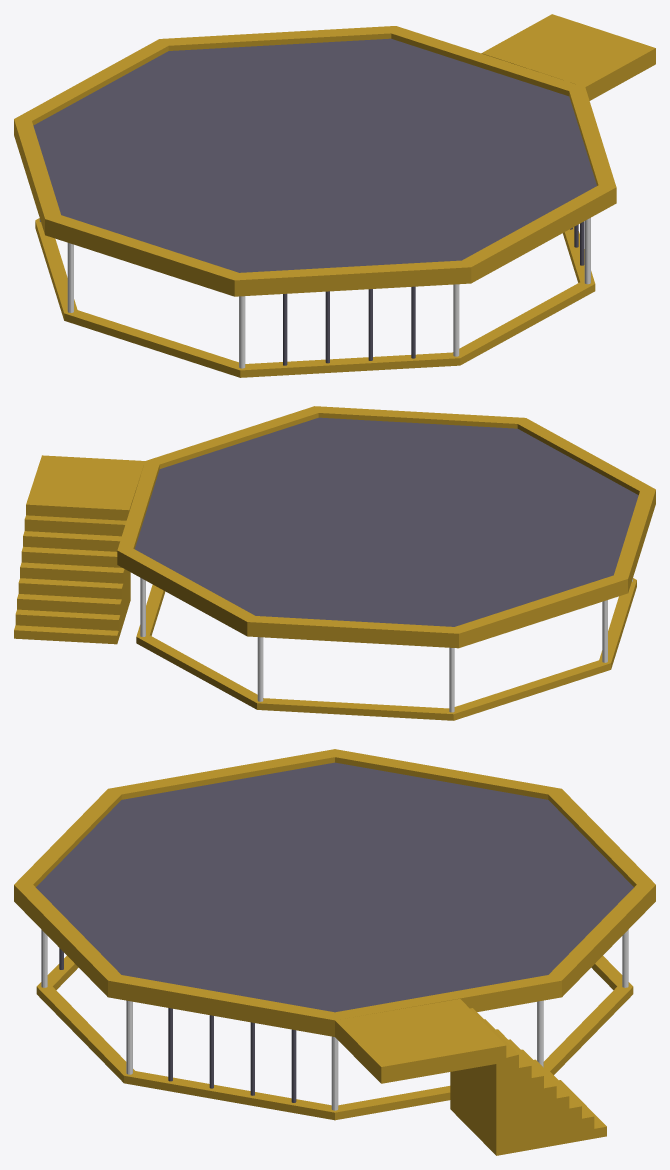
The model's file is platform.gltf.
The picture shows the model from 3 angles, top to bottom: view 1: azimuth 30°, elevation 25°; view 2: azimuth 150°, elevation 25°; view 3: azimuth 270°, elevation 25°; orthographic projection. The views are drawn at different scales.
Parts seen in each view (by area): view 1: Cylinder.001, Cylinder.002, Cylinder.004; view 2: Cylinder.001, Cylinder.002; view 3: Cylinder.001, Cylinder.002, Cylinder.003.
Part boxes in pixels (bbox=[...]): Cylinder.001: bbox=[14, 14, 655, 377]; Cylinder.002: bbox=[39, 218, 590, 368]; Cylinder.004: bbox=[283, 286, 415, 365]; Cylinder.001: bbox=[14, 406, 655, 720]; Cylinder.002: bbox=[140, 578, 632, 712]; Cylinder.001: bbox=[14, 749, 655, 1155]; Cylinder.002: bbox=[41, 930, 628, 1110]; Cylinder.003: bbox=[168, 1008, 296, 1102].
Bounding box in the file's own units: 7.94 × 1.27 × 6.77.
3 materials, 2 textured.
